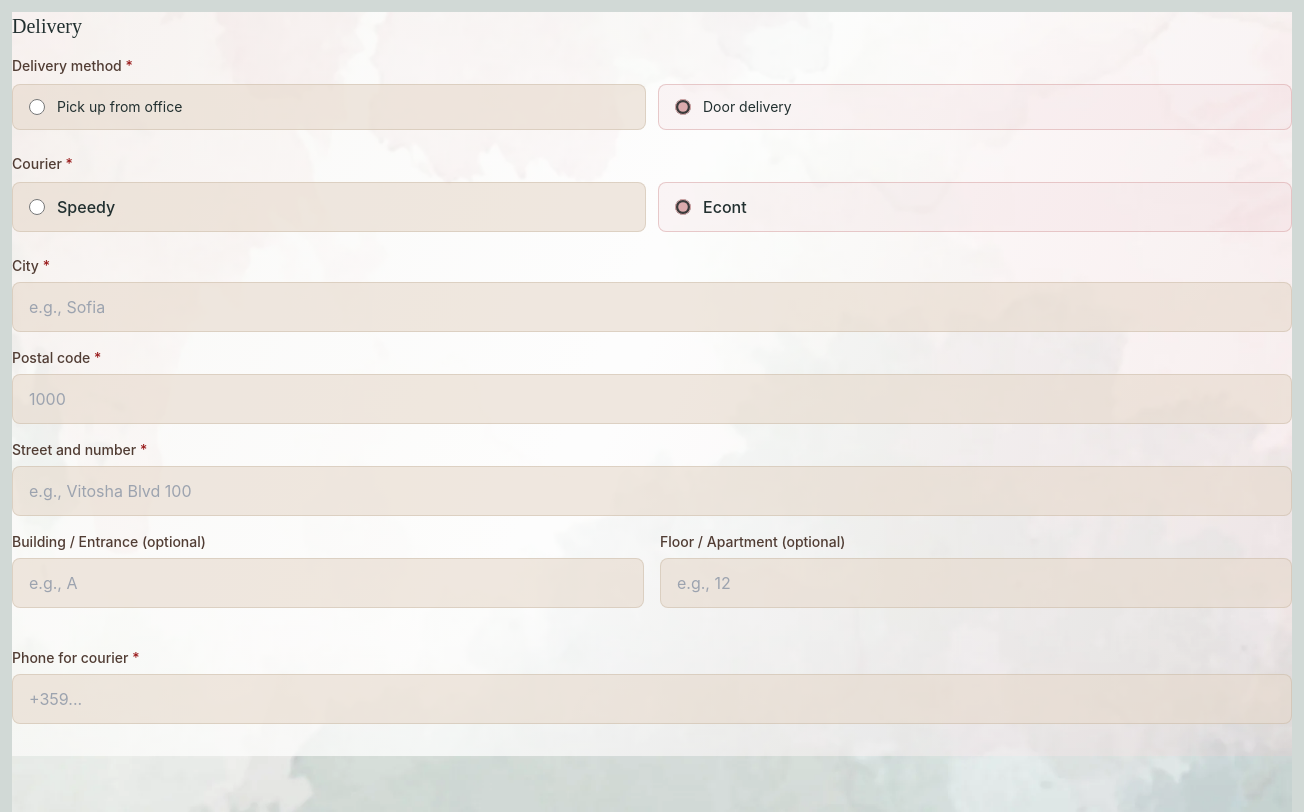
Test case: DeliverySection — courier door place picker › shows ambiguous same-named places as distinct 'name — region' rows
Type "Садо" into the field with placeholder "e.g., Sofia" at (652,307), box [12, 282, 1292, 332]
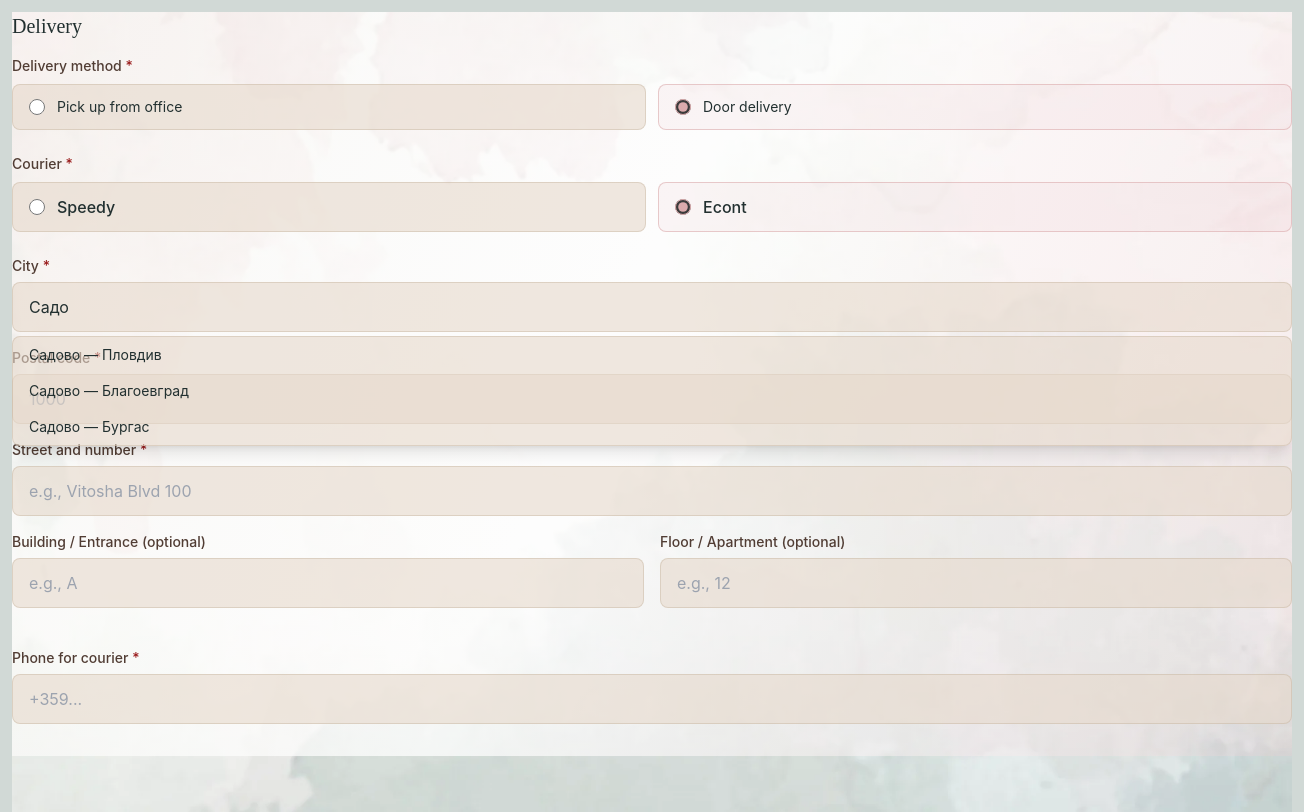
Expected: the button "Садово — Пловдив" is shown, [13, 337, 1291, 373]
Expected: the button "Садово — Благоевград" is shown, [13, 373, 1291, 409]
Expected: the button "Садово — Бургас" is shown, [13, 409, 1291, 445]
